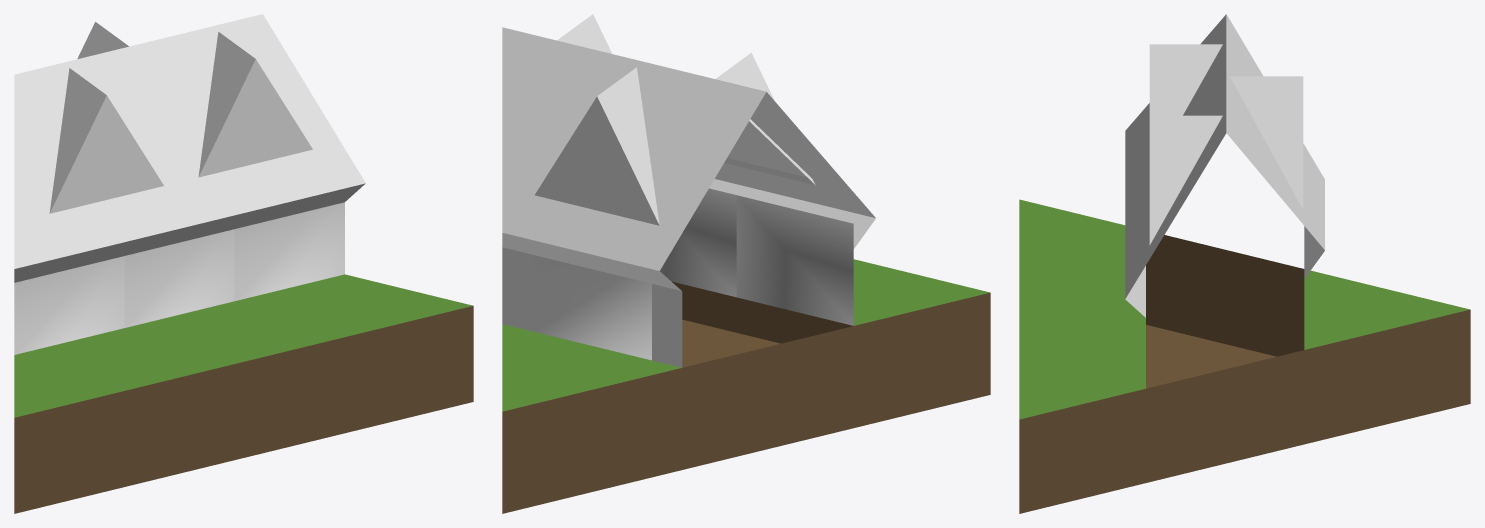
Rendered from Casa_Adossada_Simetrica_ED.fbx.
3 views of the same model, side by side, from view 1: azimuth 30°, elevation 25°; view 2: azimuth 150°, elevation 25°; view 3: azimuth 270°, elevation 25° (orthographic). The views are drawn at different scales.
Visible parts, largest first — view 1: Casa_Adossada_Simetrica_ED, DetallTeulada.008, DetallTeulada.004, DetallParet.005, DetallParet.006, DetallParet.004, DetallTeulada.005; view 2: Casa_Adossada_Simetrica_ED, DetallParet.004, DetallTeulada.005, DetallParet.007, DetallParet.005, DetallTeulada.008, DetallTeulada.004; view 3: Casa_Adossada_Simetrica_ED, DetallTeulada.005, DetallTeulada.004, DetallTeulada.008.
Part boxes in pixels (box(x1,y1,x2,y2)): Casa_Adossada_Simetrica_ED: box(14, 14, 473, 513); DetallTeulada.008: box(49, 68, 163, 213); DetallTeulada.004: box(198, 32, 312, 177); DetallParet.005: box(124, 229, 234, 327); DetallParet.006: box(234, 202, 344, 300); DetallParet.004: box(14, 256, 124, 354); DetallTeulada.005: box(77, 22, 128, 58); Casa_Adossada_Simetrica_ED: box(502, 27, 990, 513); DetallParet.004: box(736, 195, 853, 325); DetallTeulada.005: box(535, 67, 659, 225); DetallParet.007: box(534, 255, 651, 360); DetallParet.005: box(660, 188, 736, 297); DetallTeulada.008: box(715, 53, 815, 184); DetallTeulada.004: box(557, 14, 612, 53); Casa_Adossada_Simetrica_ED: box(1019, 14, 1470, 513); DetallTeulada.005: box(1230, 76, 1303, 209); DetallTeulada.004: box(1149, 115, 1222, 244); DetallTeulada.008: box(1149, 44, 1222, 115).
Size of the model in its own units: 100 by 70 by 86.6.
